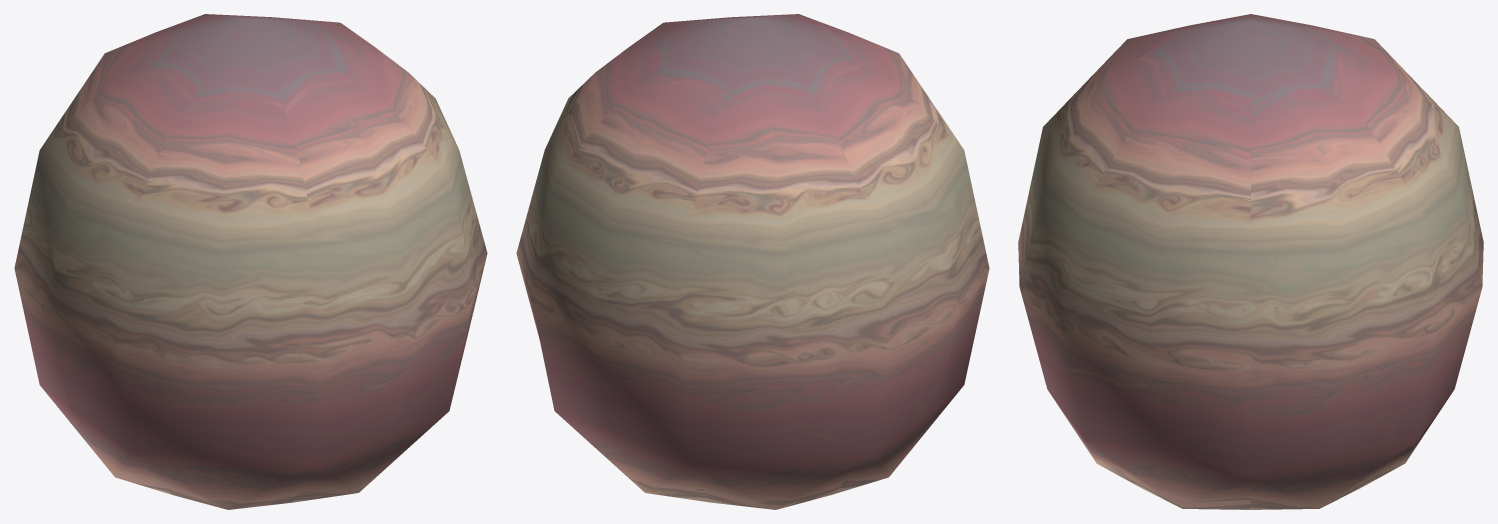
The model's file is Planet2.fbx.
The picture shows the model from 3 angles, left to right: view 1: azimuth 30°, elevation 25°; view 2: azimuth 150°, elevation 25°; view 3: azimuth 270°, elevation 25°; orthographic projection.
Parts seen in each view (by area): view 1: pasted__pSphere1; view 2: pasted__pSphere1; view 3: pasted__pSphere1.
Part boxes in pixels (left/top/right/bottom): pasted__pSphere1: left=14, top=14, right=487, bottom=509; pasted__pSphere1: left=516, top=14, right=989, bottom=509; pasted__pSphere1: left=1018, top=14, right=1483, bottom=509.
Bounding box in the file's own units: 1.56 × 1.76 × 1.53.
1 material, 1 textured.
